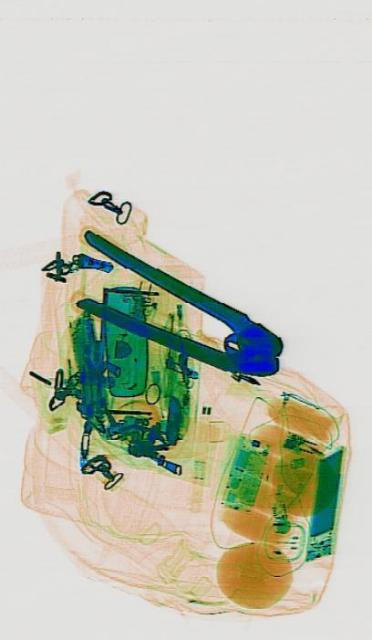Pliers: (69, 226, 287, 400)
